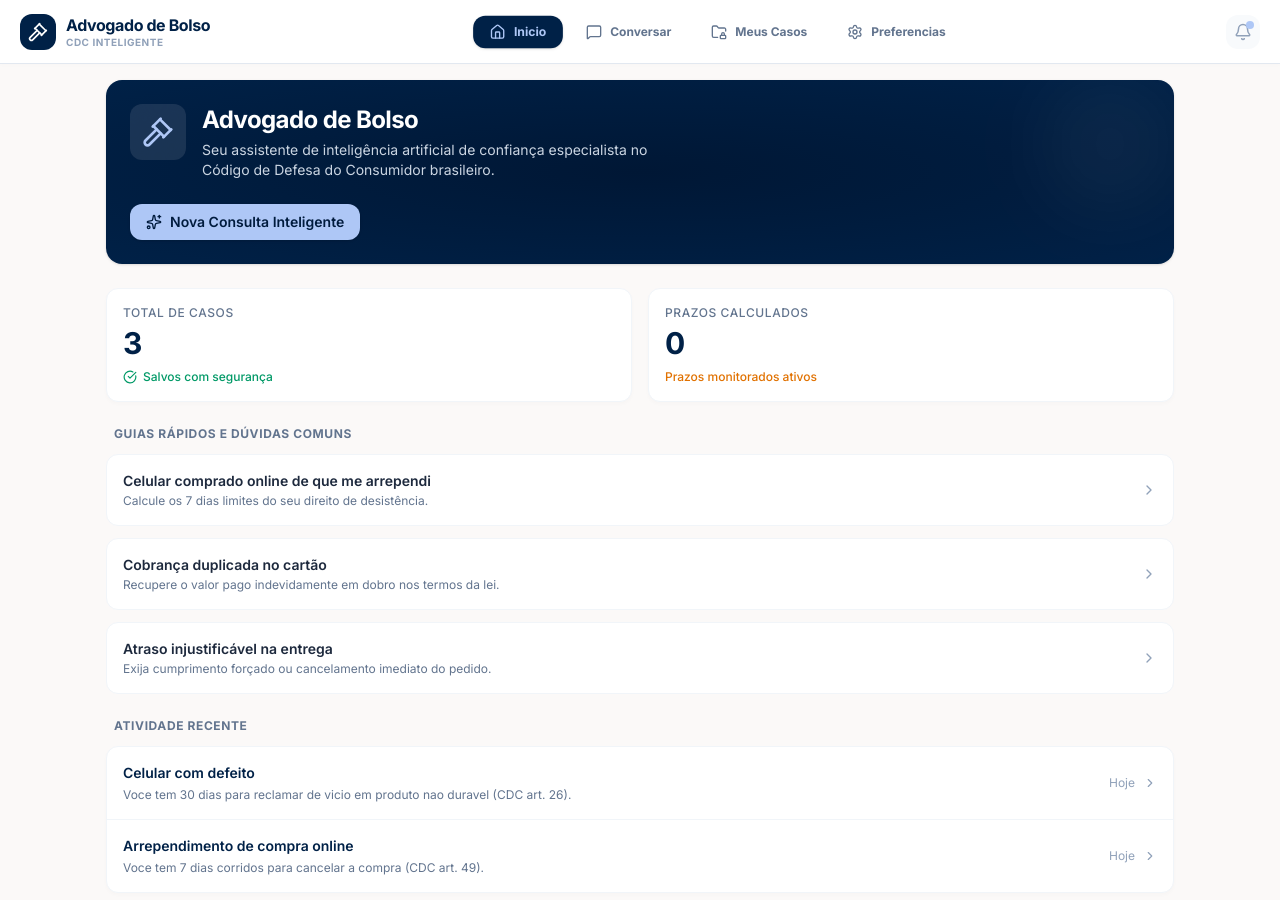
Test case: App frontend integration › sending while a demo is active posts session_id null and removes demos after the real response
Click the heading "Celular com defeito" at (189, 772), box [123,764,255,781]
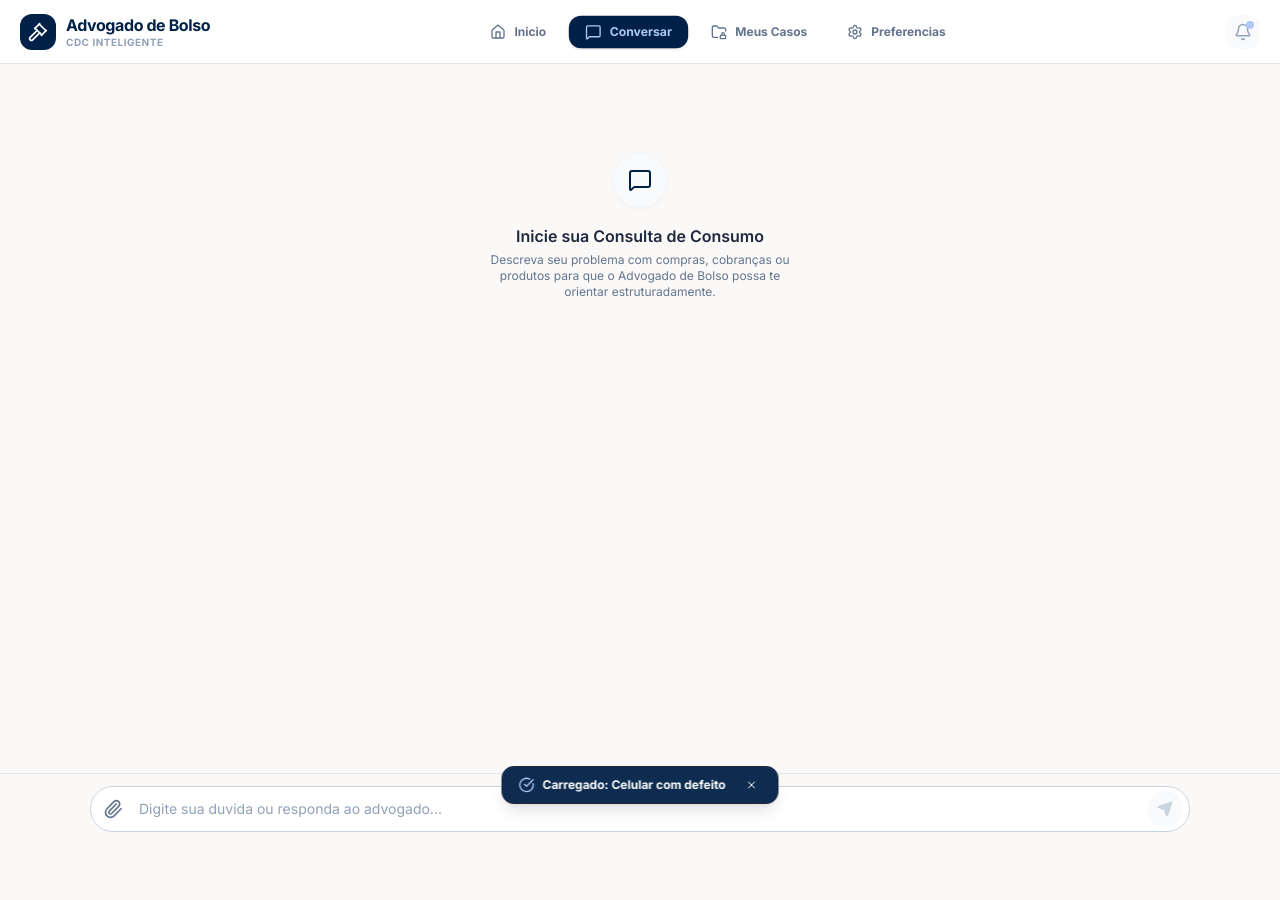
Type "Comprei um celular com defeito." into the field with placeholder "Digite sua duvida ou responda ao advogado..." at (641, 809), box [135,787,1147,831]
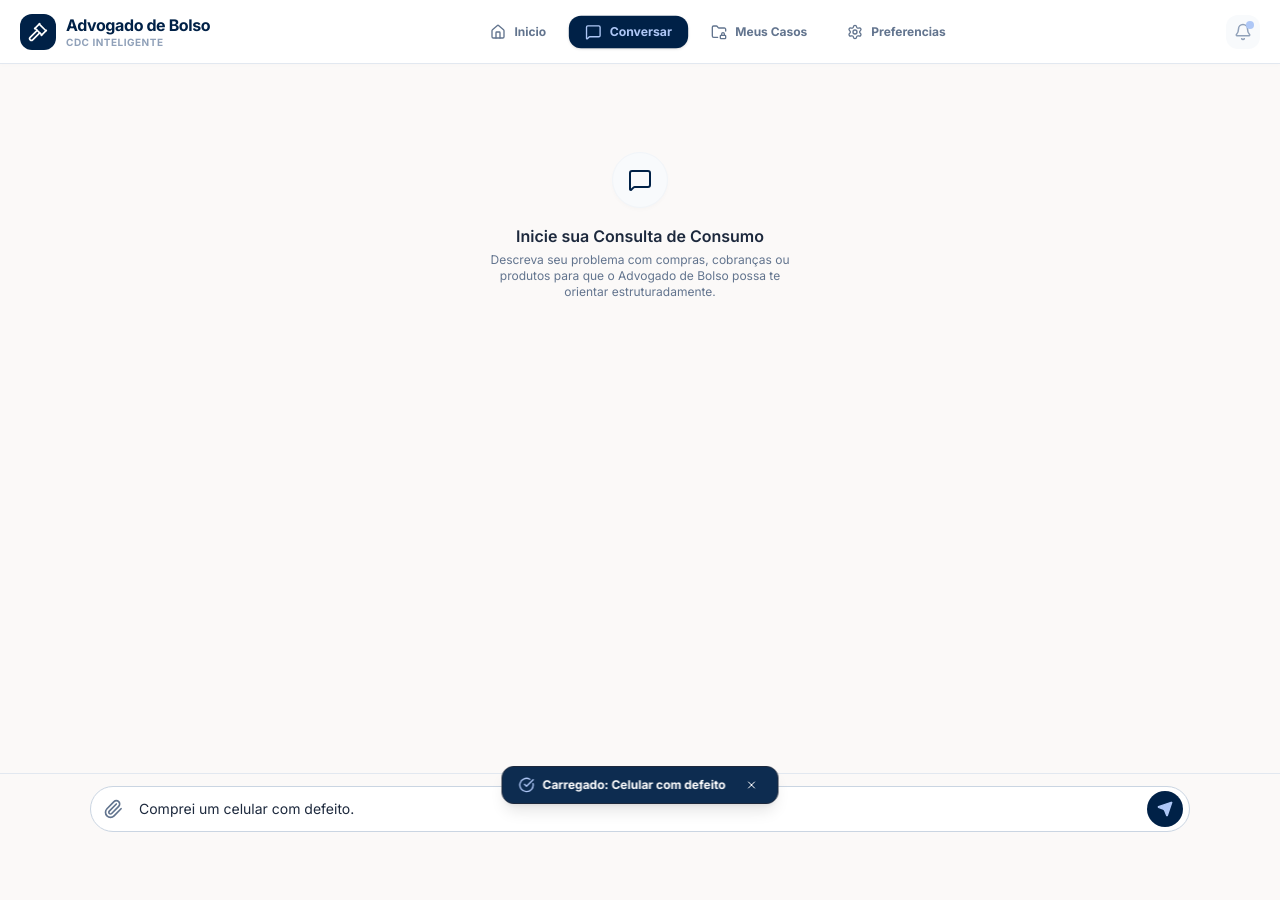
Expected: the button with id "send-button-click" is shown
Click the button with id "send-button-click" at (1165, 809), box [1147,791,1183,827]
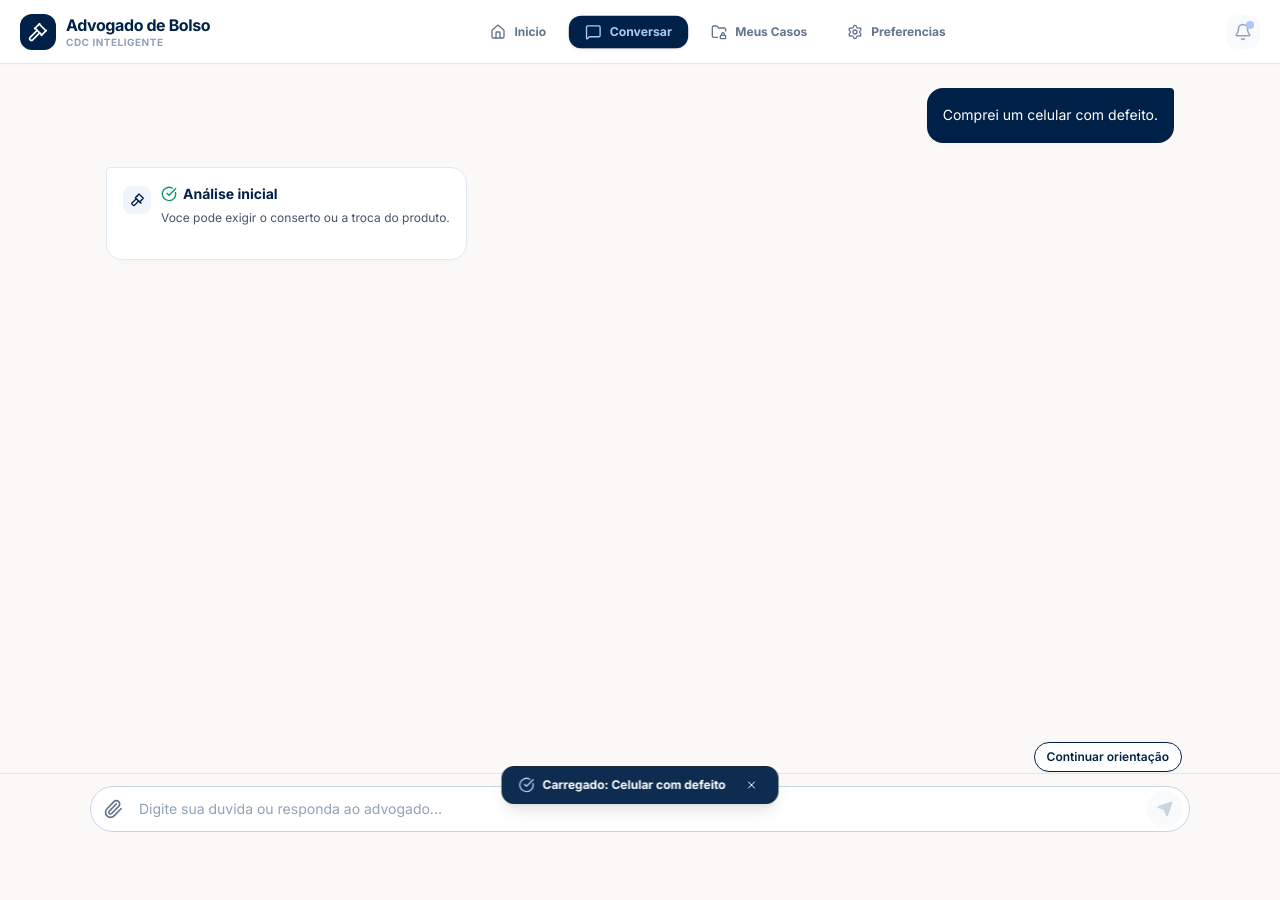
Expected: the text "Voce pode exigir o conserto ou a troca do produto." is shown, [161,208,450,227]
Click the button "Meus Casos" at (759, 32), box [695,16,823,48]
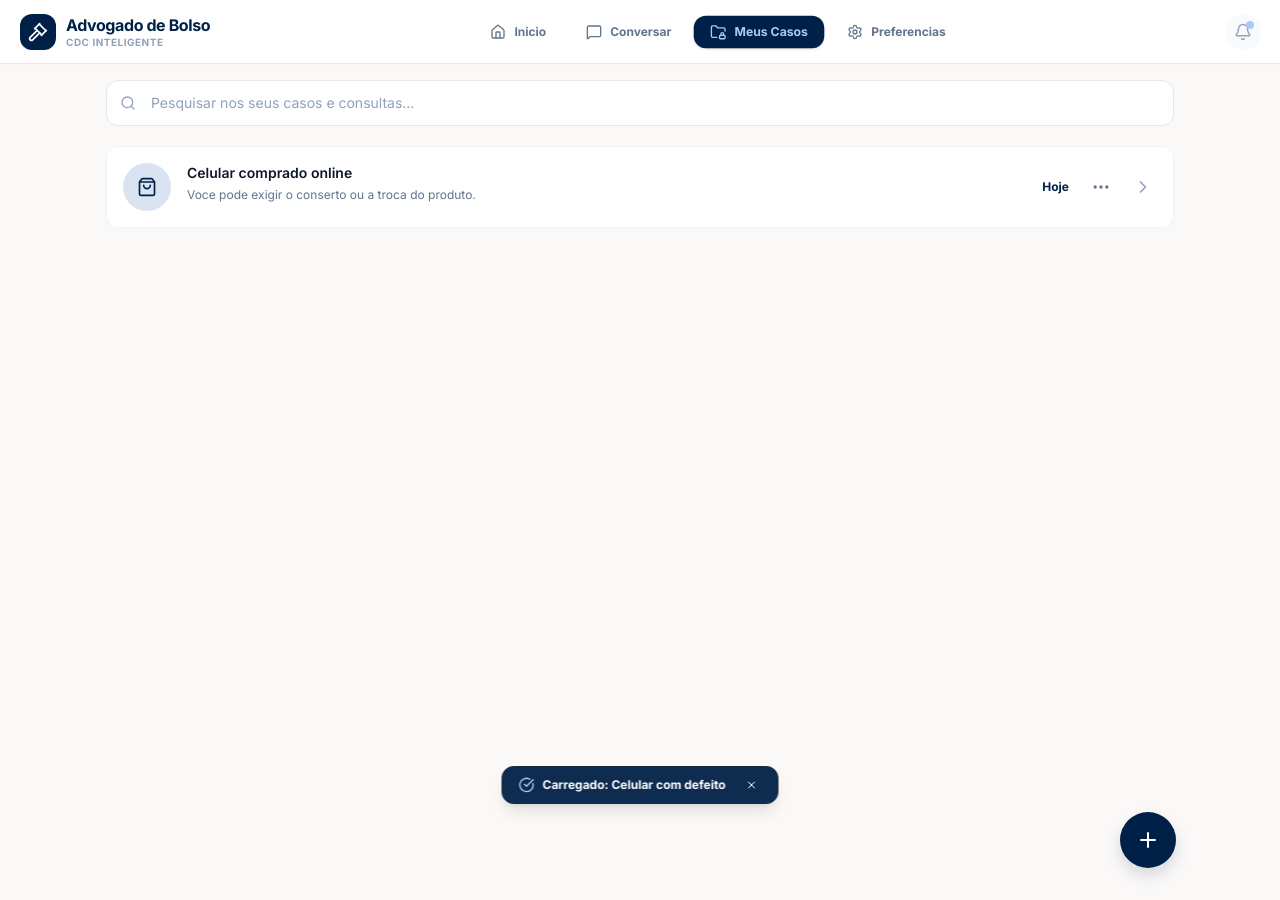
Expected: the button "Arrependimento de compra online" is not shown
Expected: the heading "Celular comprado online" is shown, [187,164,352,181]
